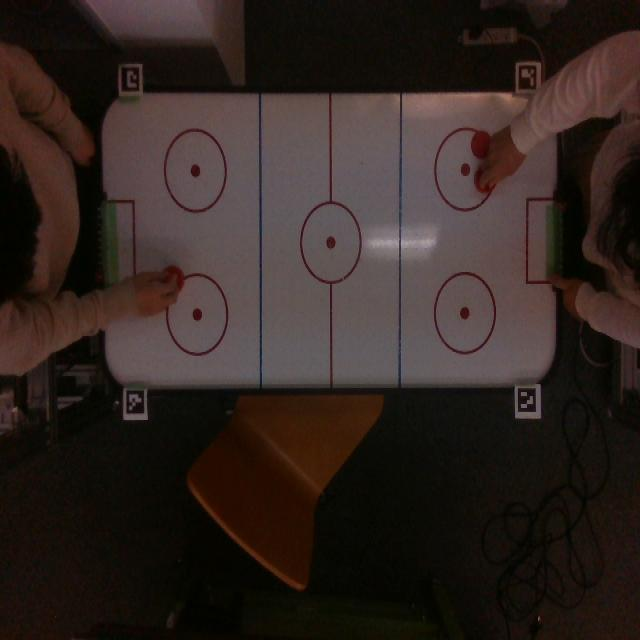puck: (470, 124, 494, 163)
